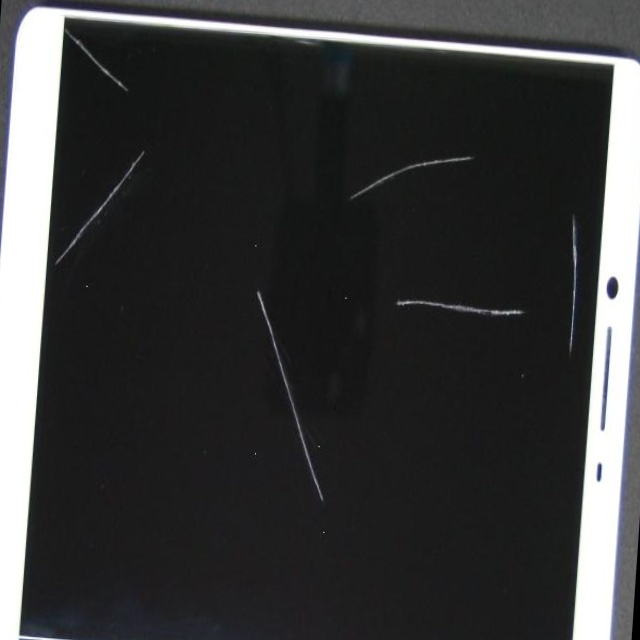scratch: (121, 64, 404, 402), (113, 0, 203, 269)
